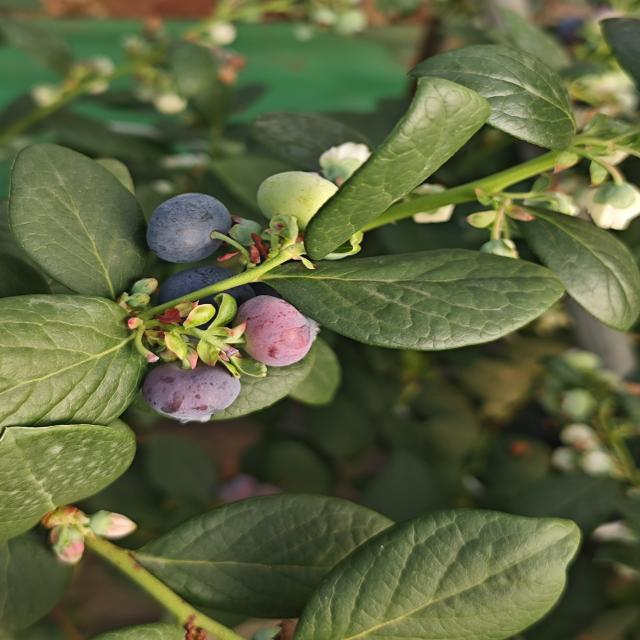ripe: (139, 359, 244, 425), (143, 191, 235, 265), (150, 264, 263, 320)
